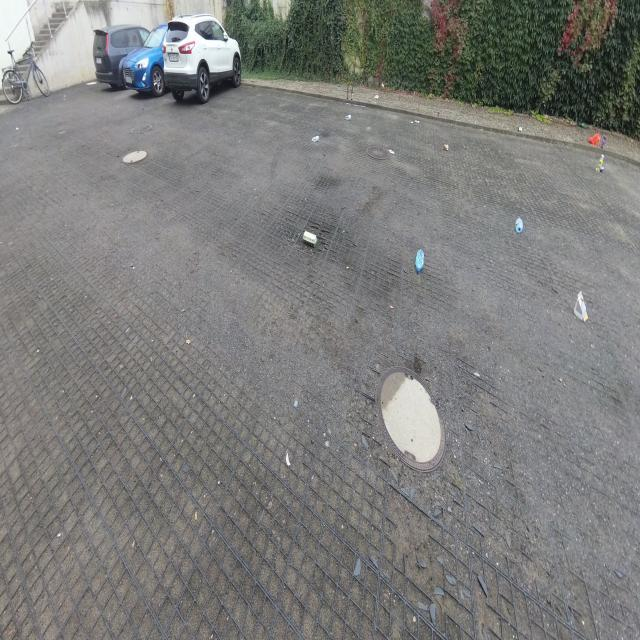rubbish: (573, 289, 589, 324), (414, 249, 425, 274), (303, 230, 317, 247), (595, 153, 605, 174), (514, 218, 524, 234), (588, 133, 601, 145), (601, 134, 606, 149), (311, 134, 320, 142), (387, 148, 397, 155), (344, 113, 351, 120), (444, 143, 449, 151), (517, 126, 522, 132), (346, 85, 348, 99), (414, 119, 419, 124), (601, 167, 605, 173), (351, 86, 352, 99), (437, 110, 439, 116), (374, 96, 378, 99), (411, 119, 413, 124)
